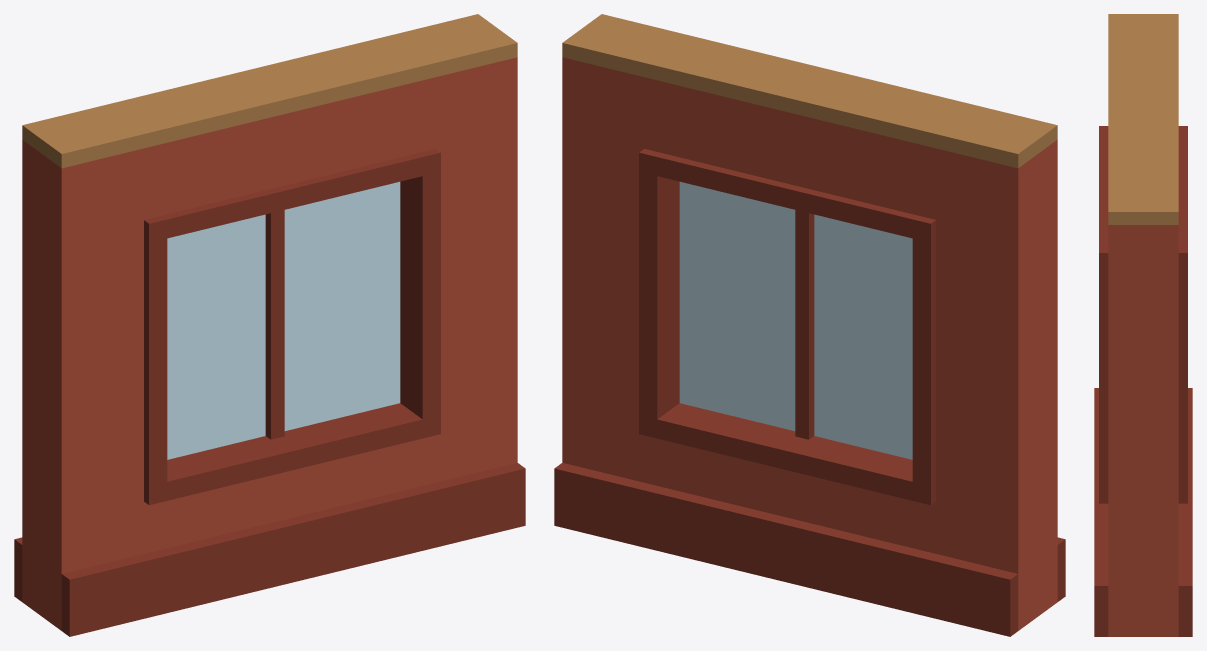
The model's file is wall-window.glb.
The picture shows the model from 3 angles, left to right: view 1: azimuth 30°, elevation 25°; view 2: azimuth 150°, elevation 25°; view 3: azimuth 270°, elevation 25°; orthographic projection. The views are drawn at different scales.
Visible parts, largest first — view 1: wall-window; view 2: wall-window; view 3: wall-window.
Part boxes in pixels (bbox=[...]): wall-window: bbox=[14, 14, 525, 636]; wall-window: bbox=[554, 14, 1065, 636]; wall-window: bbox=[1094, 14, 1192, 636].
Bounding box in the file's own units: 1 × 1 × 0.21.
Materials: 1 (1 with a texture image).
